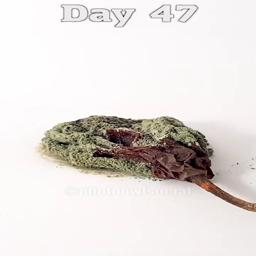Pear Rotten: (9, 89, 256, 182)
